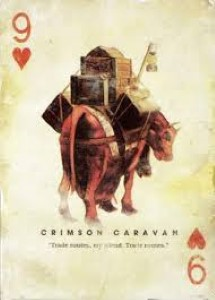NineOfHearts: (8, 5, 210, 288)
